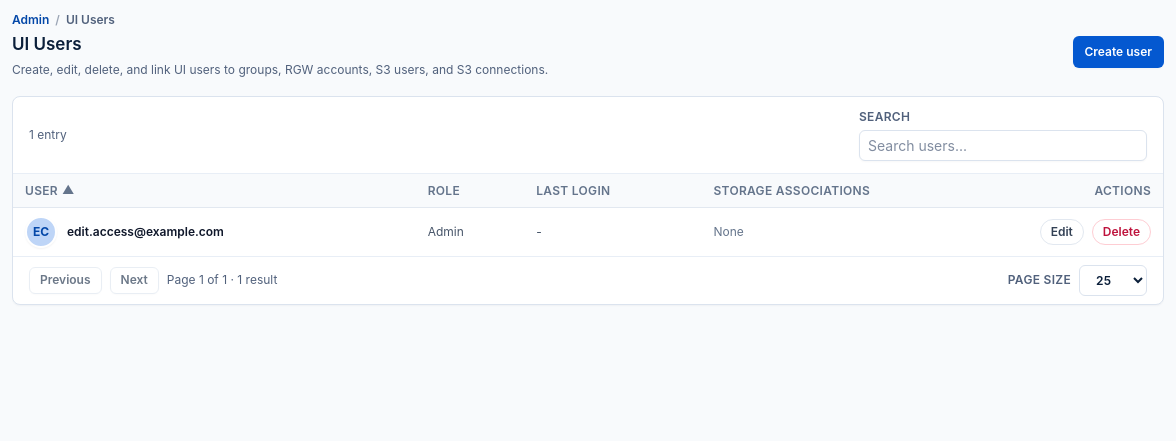
Test case: UsersPage modal tabs › shows Workspaces tab and keeps workspace toggles out of General in edit modal
Step 1. Click the button "Edit" → (1062,232), box [1040, 219, 1084, 245]
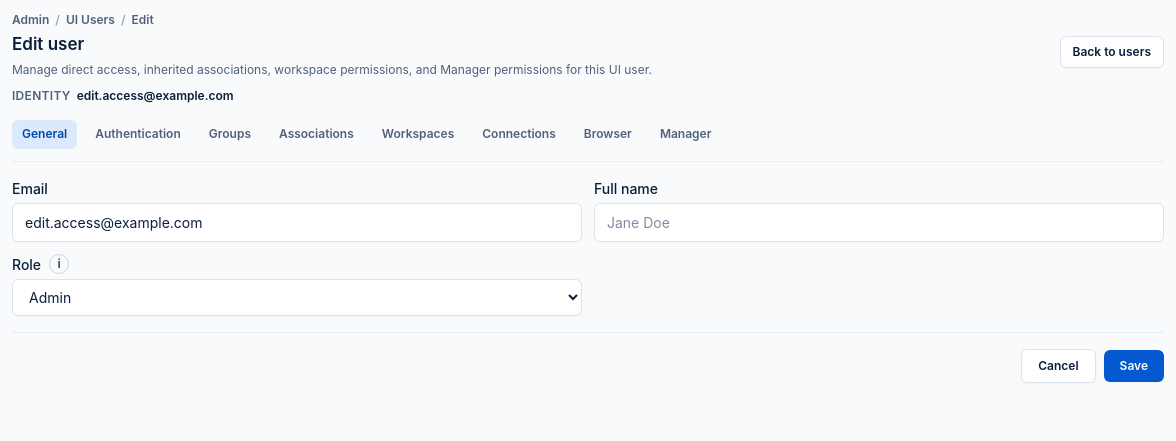
expect the tab "General" is shown: met, box [12, 120, 77, 148]
expect the tab "Associations" is shown: met, box [269, 120, 364, 148]
expect the tab "Workspaces" is shown: met
Step 2. Click the tab "Workspaces" → (418,134), box [372, 120, 464, 148]
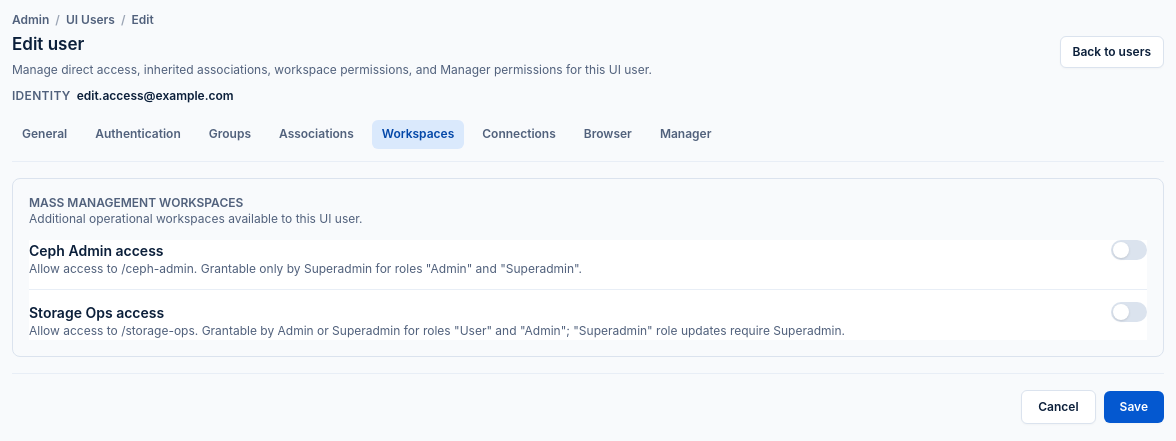
expect the text "Mass management workspaces" is shown: met, box [29, 194, 243, 210]
expect the text "Ceph Admin access" is shown: met, box [29, 242, 164, 258]
expect the text "Storage Ops access" is shown: met, box [29, 304, 164, 321]
